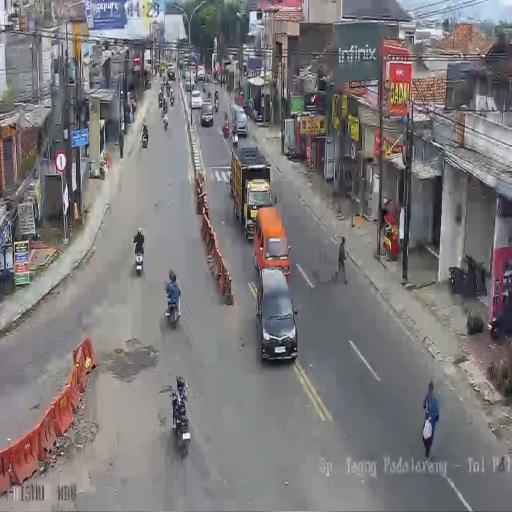car: (256, 267, 298, 360), (253, 206, 290, 281), (231, 104, 248, 137), (200, 101, 214, 126), (190, 89, 203, 109), (197, 64, 205, 81), (167, 66, 175, 81)
motorcycle: (171, 388, 191, 454), (165, 284, 180, 326), (134, 240, 144, 274), (286, 146, 301, 160), (232, 129, 238, 148), (142, 130, 148, 148), (223, 119, 229, 137), (162, 112, 168, 130), (162, 96, 167, 113), (158, 94, 163, 108), (207, 90, 212, 104), (214, 97, 218, 112), (170, 93, 174, 106), (166, 83, 170, 96), (153, 65, 157, 78), (202, 81, 206, 93), (206, 72, 210, 83)
truck: (231, 143, 270, 238), (185, 69, 195, 90), (144, 49, 152, 72), (180, 59, 188, 79)
